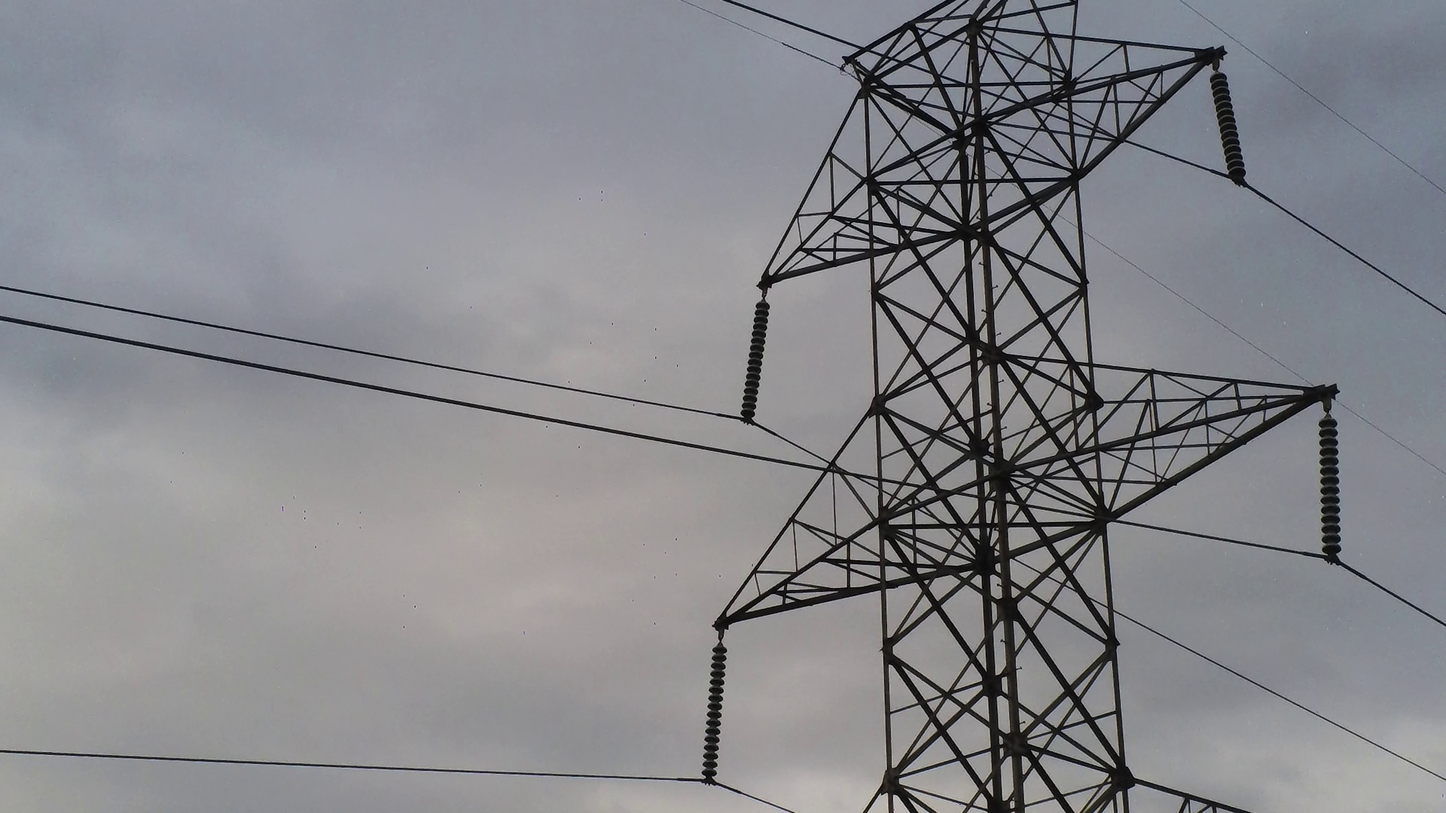insulator: (1208, 70, 1248, 180), (698, 643, 730, 778), (738, 297, 773, 419), (1316, 414, 1345, 556)
